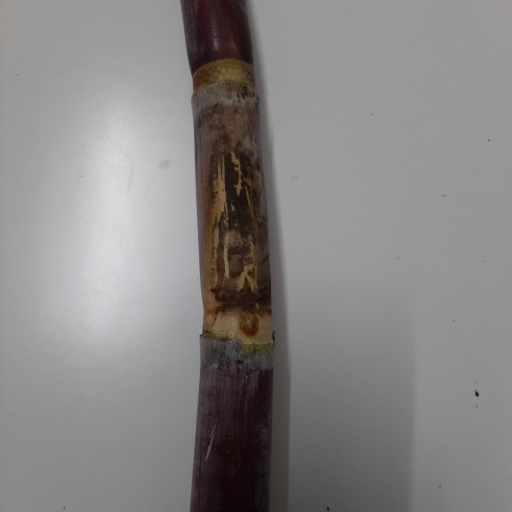Bud: (237, 310, 259, 336)
